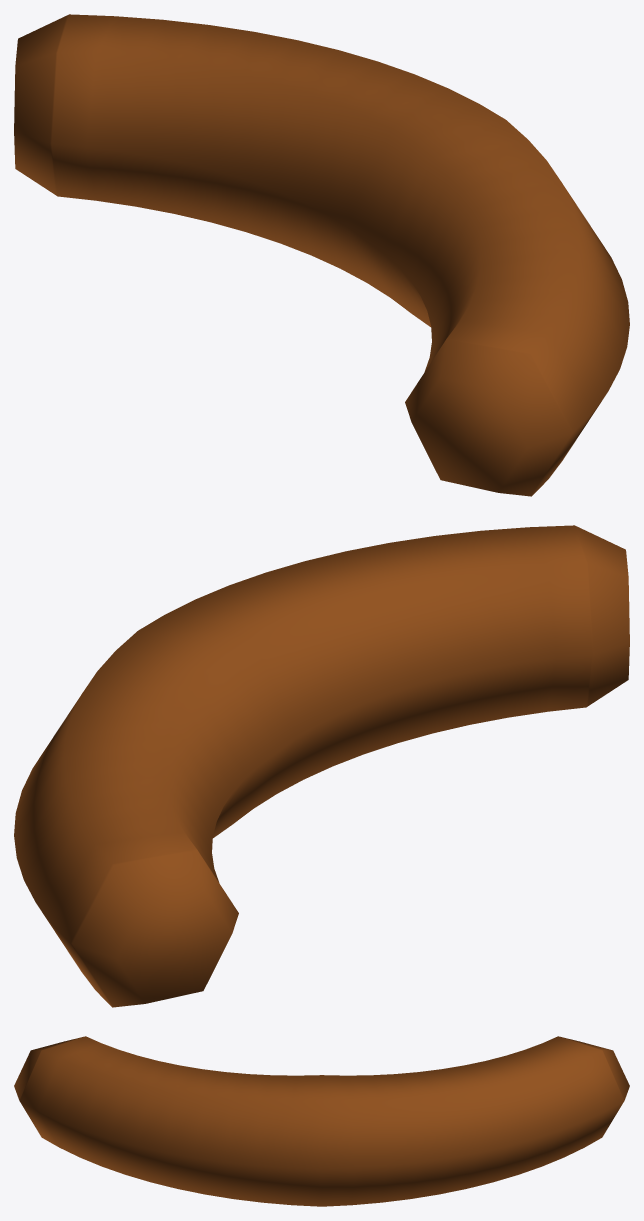
Rendered from meat-sausage.obj.
3 views of the same model, one above another, from view 1: azimuth 30°, elevation 25°; view 2: azimuth 150°, elevation 25°; view 3: azimuth 270°, elevation 25° (orthographic). The views are drawn at different scales.
Visible parts, largest first — view 1: meat-sausage; view 2: meat-sausage; view 3: meat-sausage.
Part boxes in pixels (x1,y1,x2,y2): meat-sausage: (14,14,629,496); meat-sausage: (14,525,629,1007); meat-sausage: (14,1036,629,1206).
Bounding box in the file's own units: 0.1515 × 0.0727 × 0.3916.
